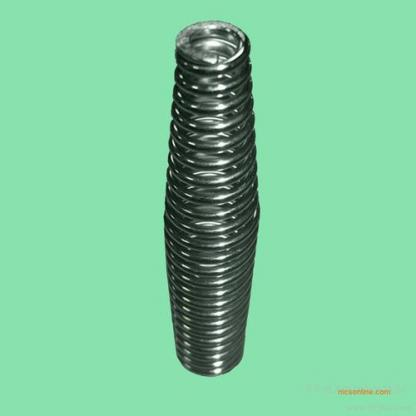FOD: (159, 16, 267, 378)
